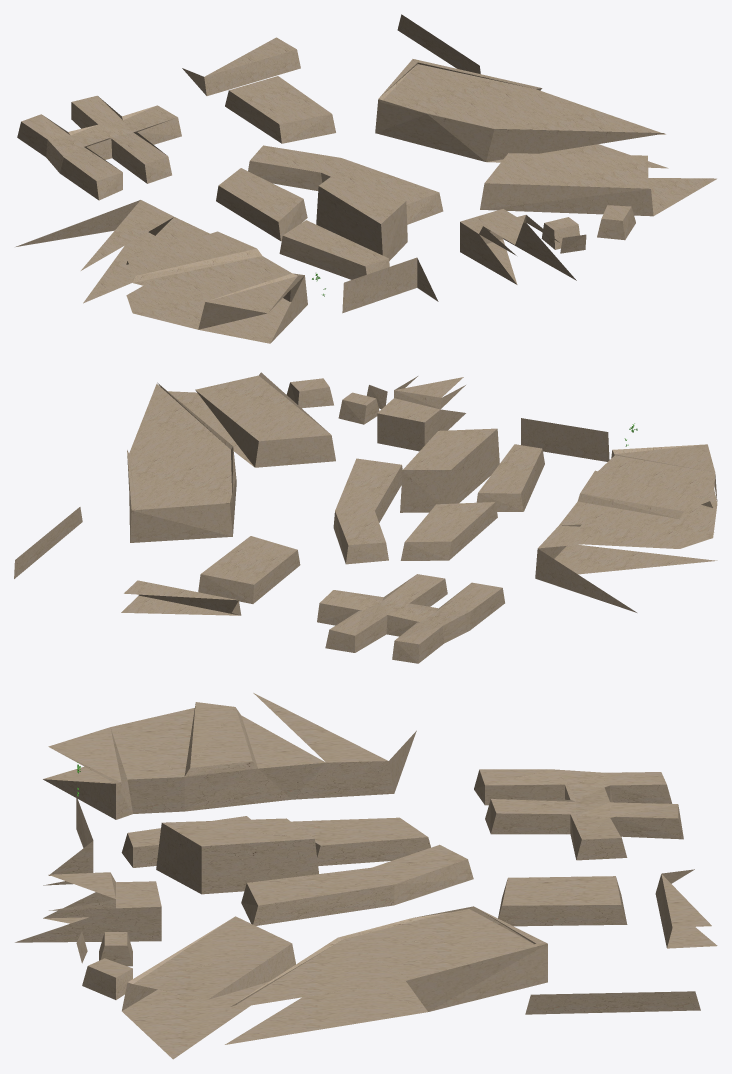
The model's file is tile_0_-2.gltf.
3 views of the same model, one above another, from view 1: azimuth 30°, elevation 25°; view 2: azimuth 150°, elevation 25°; view 3: azimuth 270°, elevation 25° (orthographic). The views are drawn at different scales.
Visible parts, largest first — view 1: Plane.011@tile_0_-2; view 2: Plane.011@tile_0_-2; view 3: Plane.011@tile_0_-2.
Part boxes in pixels (x1,y1,x2,y2): Plane.011@tile_0_-2: (16, 14, 716, 343); Plane.011@tile_0_-2: (14, 372, 717, 663); Plane.011@tile_0_-2: (15, 693, 717, 1059).
Size of the model in its own units: 126 by 9.48 by 112.
2 materials, 1 textured.
